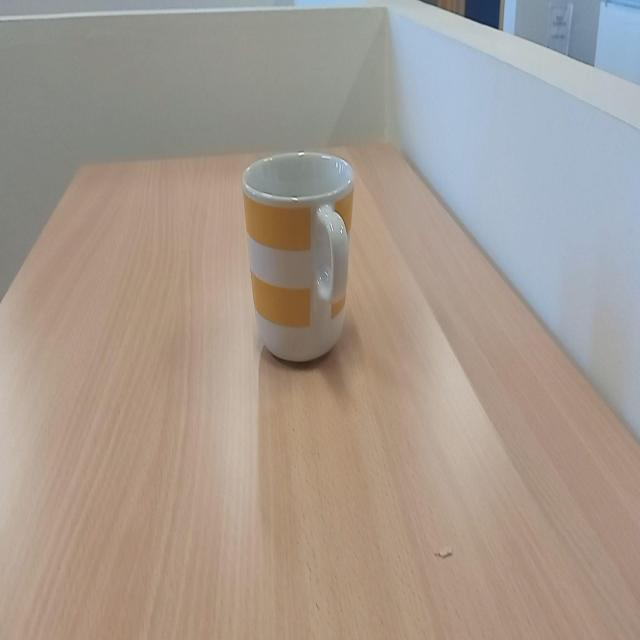cup: (240, 150, 356, 367)
